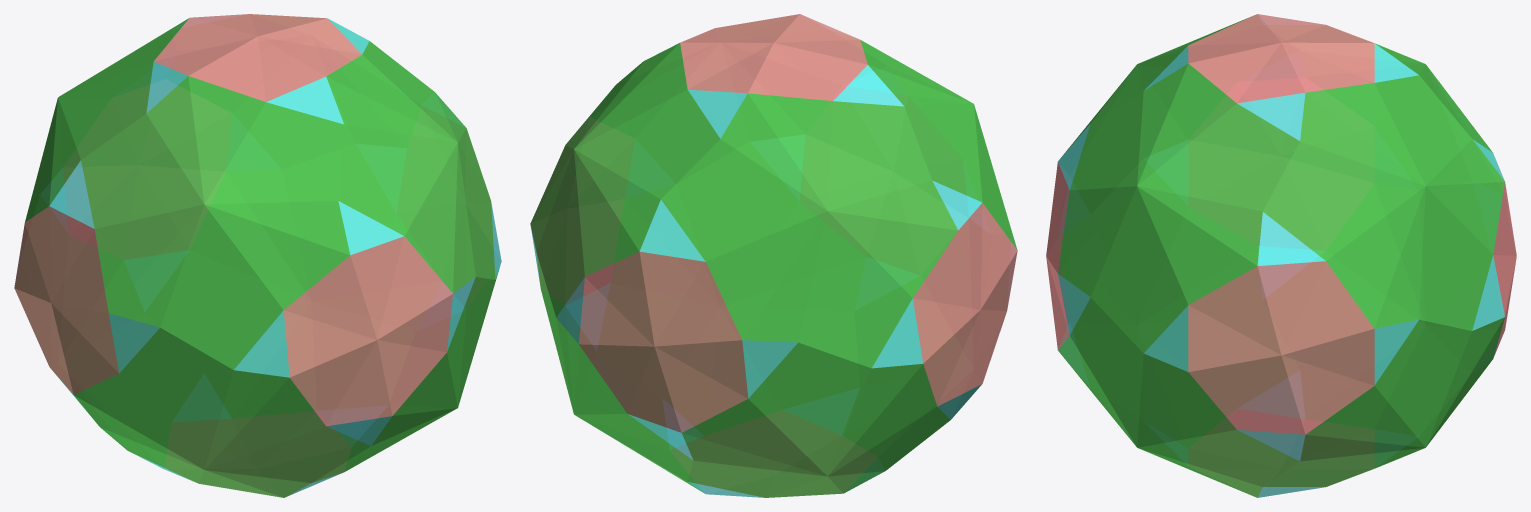
File: PropellorTetrakisHexahedron.obj
3 renders of one model, left to right at view 1: azimuth 30°, elevation 25°; view 2: azimuth 150°, elevation 25°; view 3: azimuth 270°, elevation 25°, orthographic.
Size of the model in its own units: 2.03 by 2.03 by 2.03.
